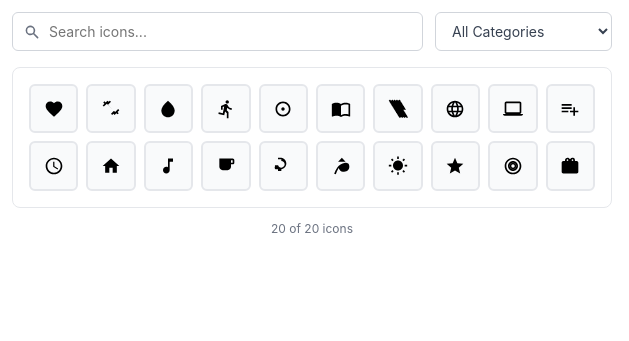
Test: IconSelector › No Results State › should show no results when category filter returns no matches
# This might happen if we add categories without icons in the future
In the field with placeholder "Search icons...": (218, 32) [12,12,423,51], type "xyz123impossible"
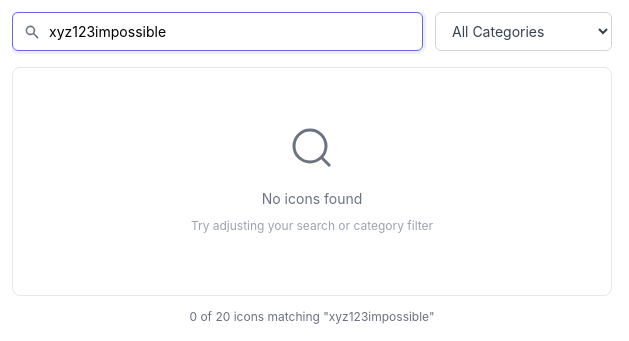
Expected: the text "No icons found" is shown, [262,188,362,209]
